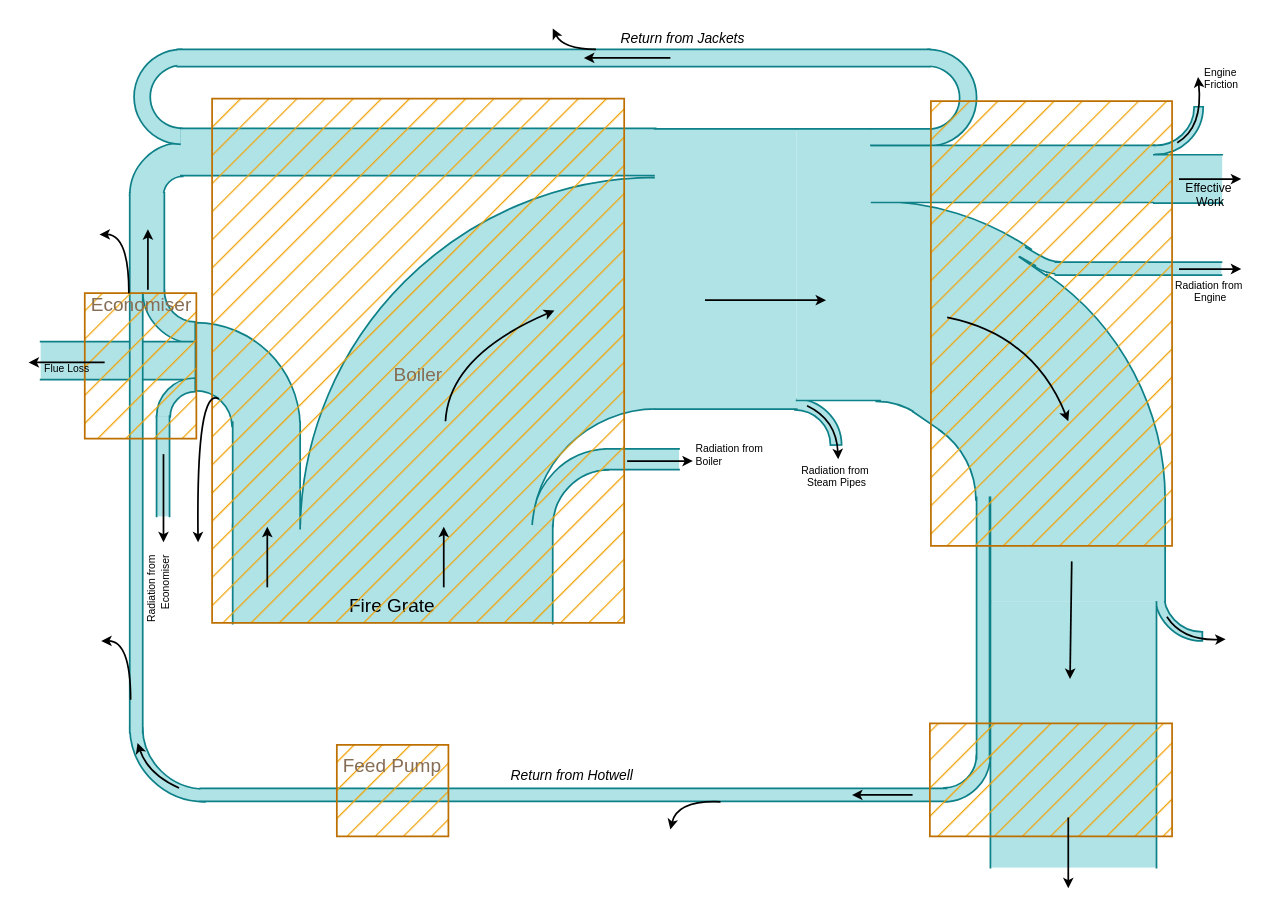
The diagram is 1280 pixels wide and 920 high, and some of its shapes have lost their labels. Each missing label, with the centre of its shape:
"Condenser" belongs at pixel 1050 779.
"Engine" belongs at pixel 1050 322.
